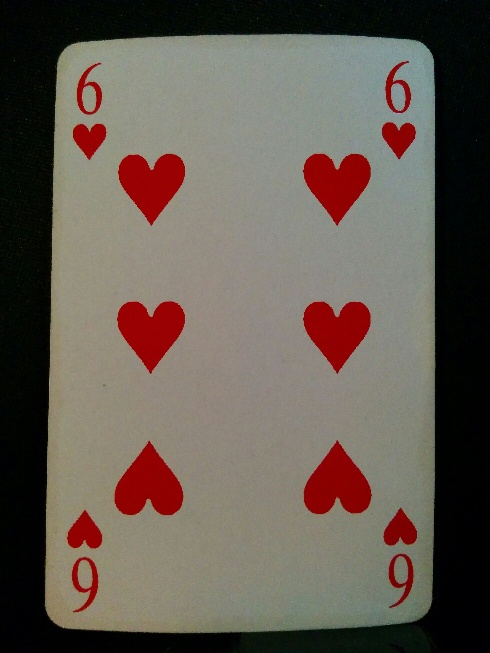H6: (57, 503, 112, 617), (375, 53, 424, 163), (379, 500, 422, 612), (69, 55, 112, 161)
